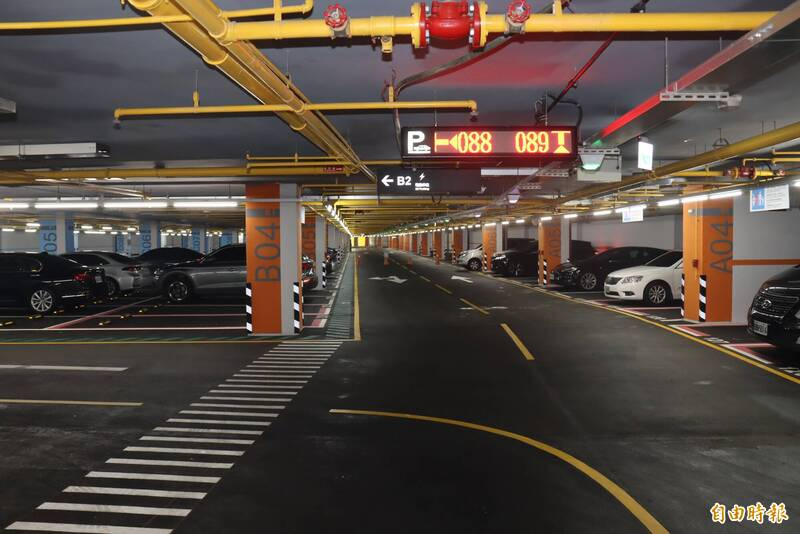car: (2, 245, 112, 315), (743, 236, 800, 369), (153, 244, 248, 302), (602, 252, 684, 305), (552, 246, 621, 290), (97, 246, 150, 295), (491, 241, 539, 275), (454, 240, 483, 272)
